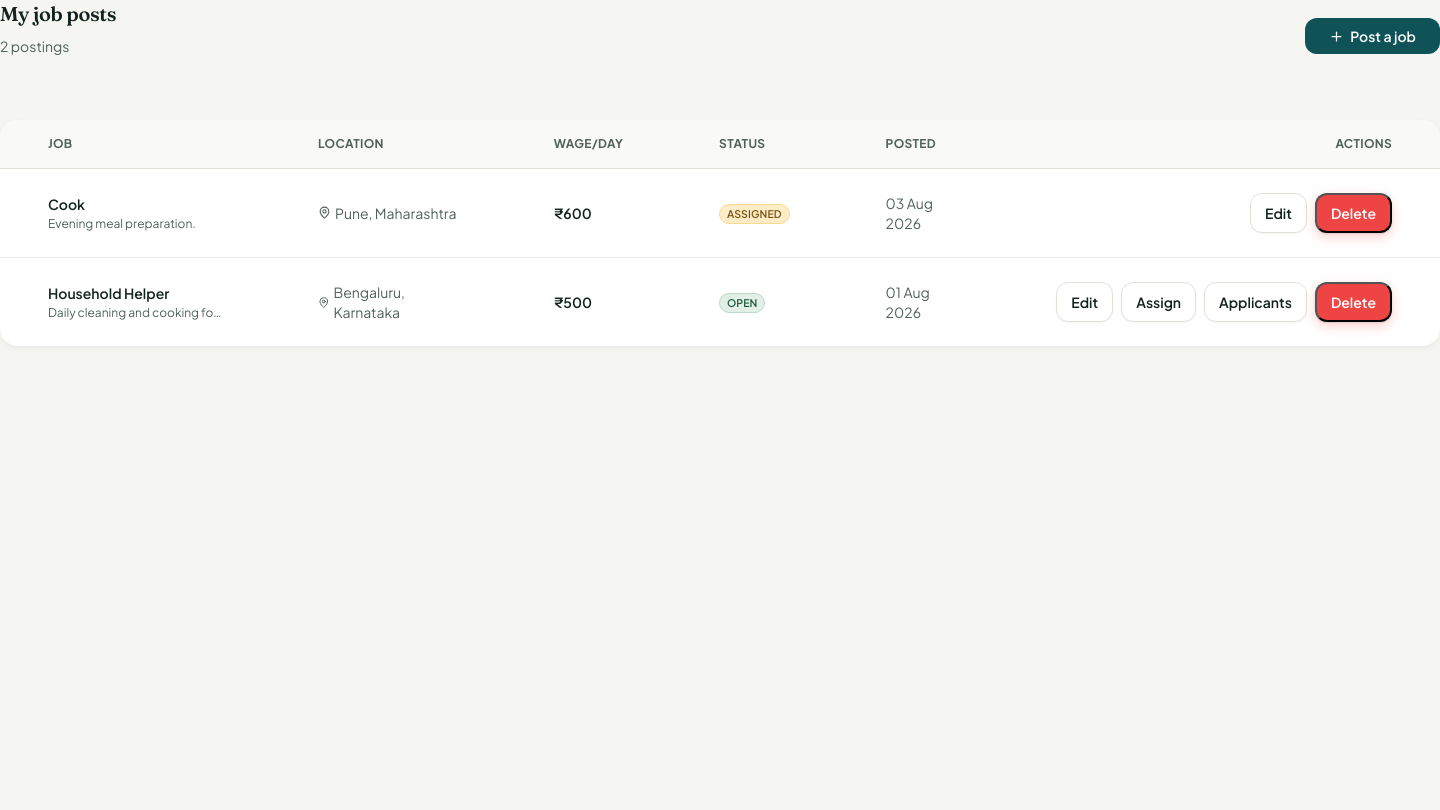
Test: MyJobPosts › opens a confirm modal, deletes on confirmation and removes the row
Click the button "Delete" in the row of "Evening meal preparation.". click: (1353, 213)
box: [1315,193,1392,233]
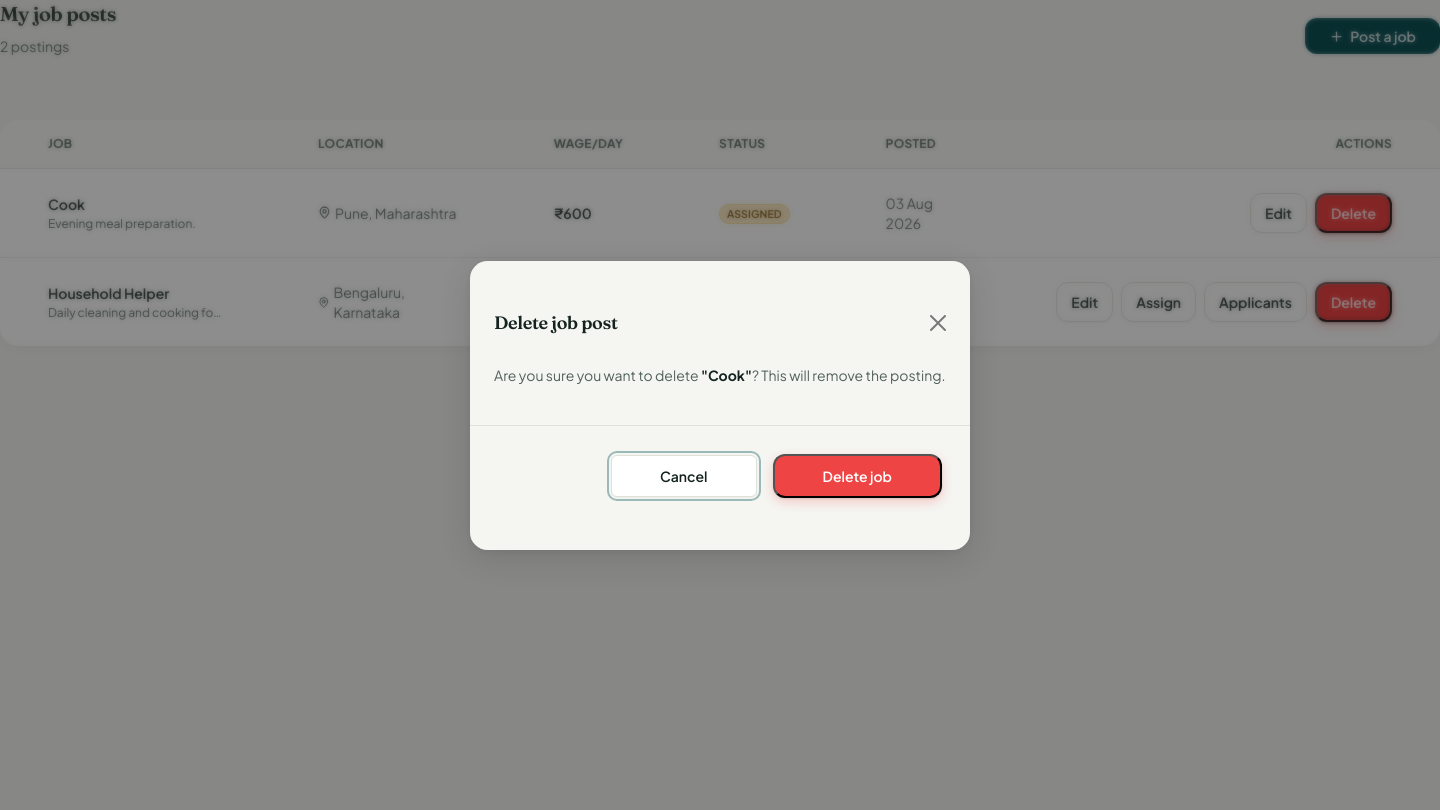
Expected: the dialog shows "Cook", [708,366,745,384]
Click the button "Delete job". click: (857, 476)
box: [772,454,942,498]
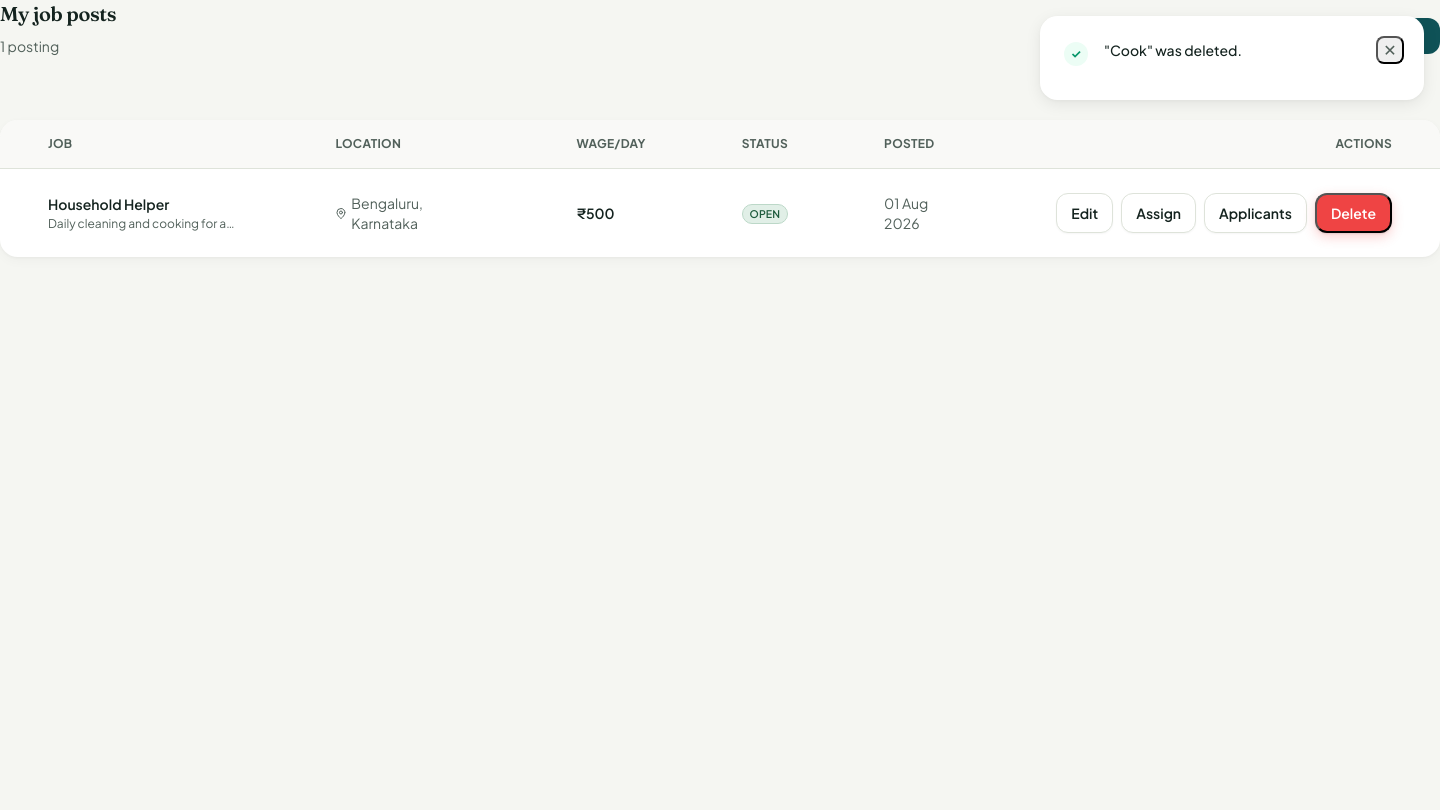
Expected: the text "Household Helper" is shown, [48,195,169,213]
Expected: the text "\"Cook\" was deleted." is shown, [1104,41,1242,59]
Expected: the dialog is gone
